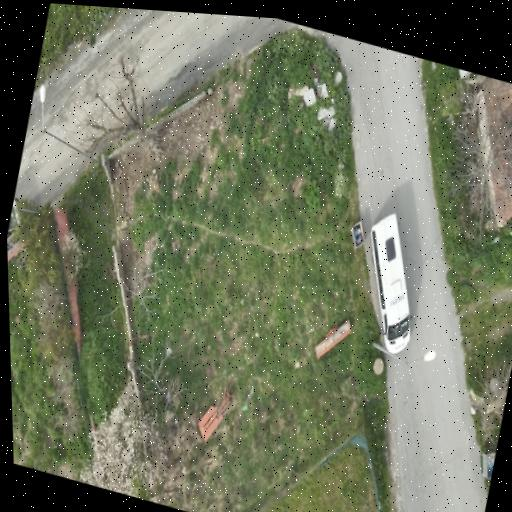bus: (370, 214, 410, 354)
